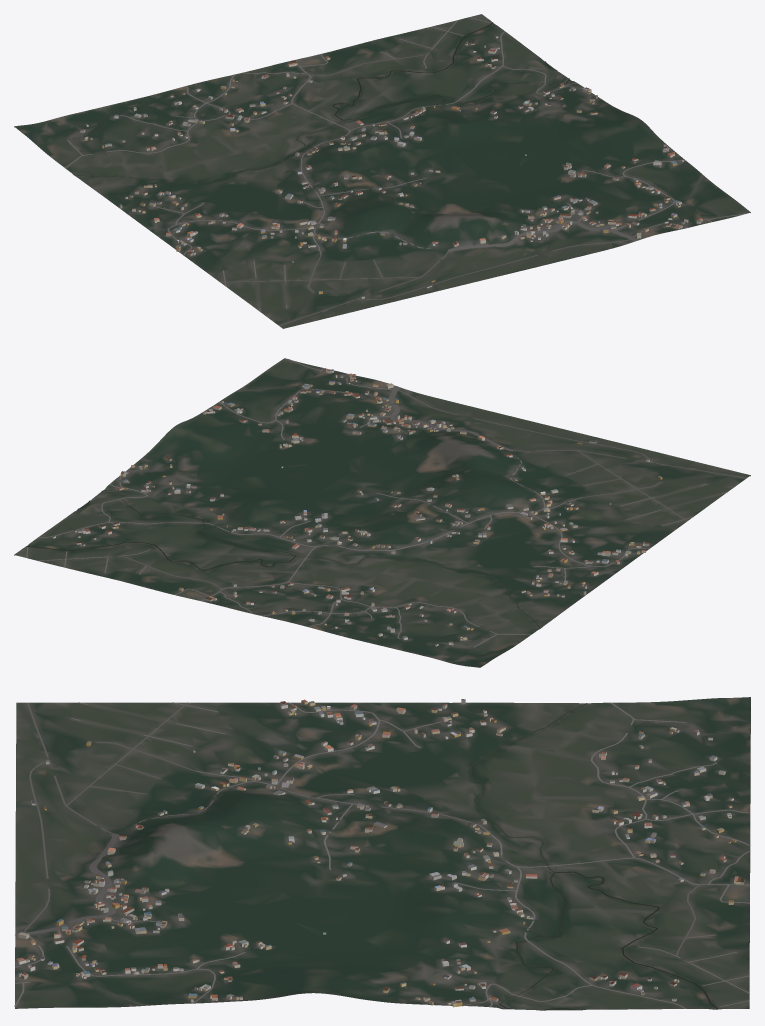
3 renders of one model, top to bottom at view 1: azimuth 30°, elevation 25°; view 2: azimuth 150°, elevation 25°; view 3: azimuth 270°, elevation 25°, orthographic. The views are drawn at different scales.
Parts seen in each view (by area): view 1: ground, buildings, roads, water; view 2: ground, buildings, roads, water; view 3: ground, buildings, roads, water.
Boxes of the visible parts, x1,y1,x2,y2 form: ground: (14, 14, 750, 328); buildings: (80, 35, 702, 298); roads: (65, 17, 747, 325); water: (74, 22, 569, 183); ground: (14, 358, 750, 667); buildings: (52, 369, 662, 646); roads: (26, 359, 746, 647); water: (25, 489, 540, 628); ground: (15, 697, 750, 1010); buildings: (16, 699, 744, 1007); roads: (14, 702, 750, 1008); water: (467, 703, 718, 1010).
Size of the model in its own units: 1408 by 45.6 by 1406.
